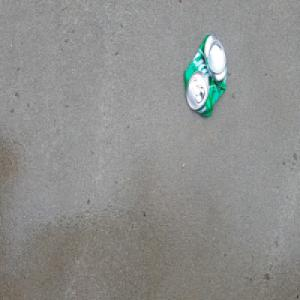SodaCan: (182, 32, 228, 118)
